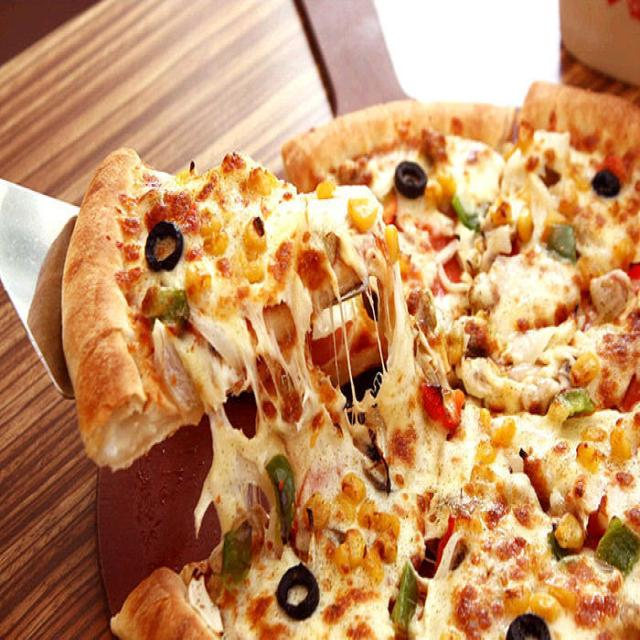Wet Waste: (46, 137, 398, 478)
